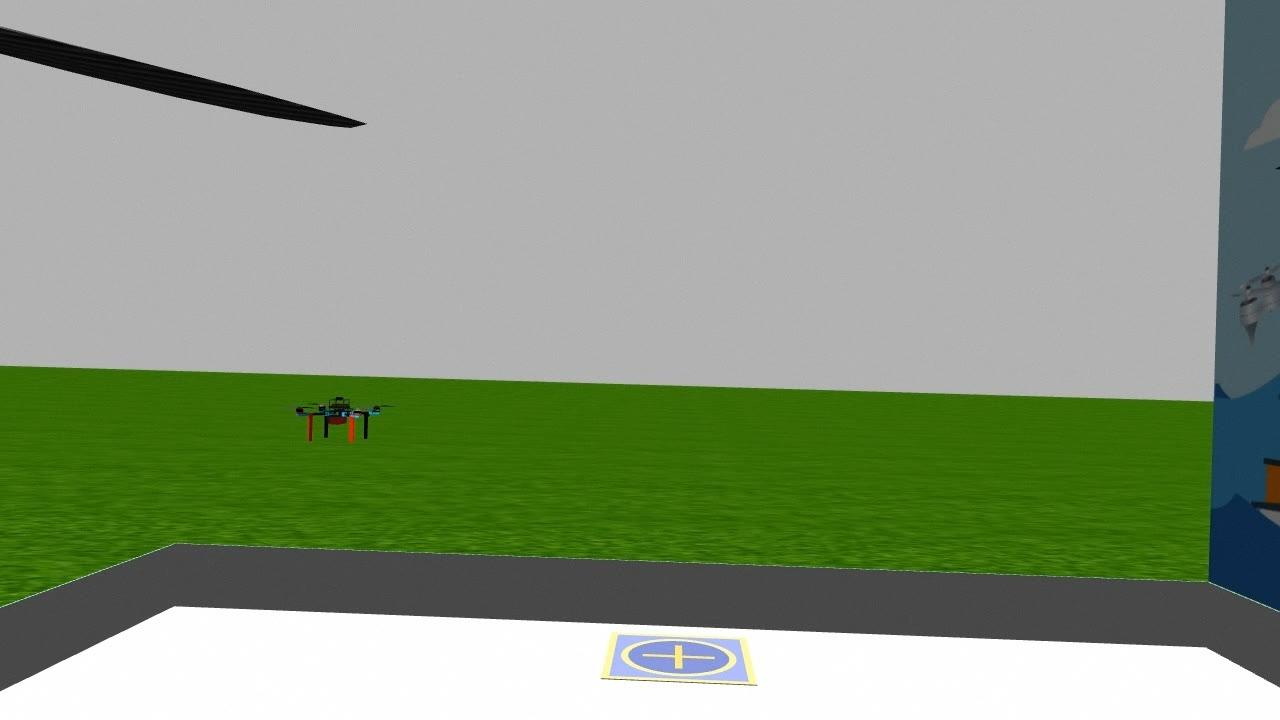UAV: (290, 386, 386, 466)
